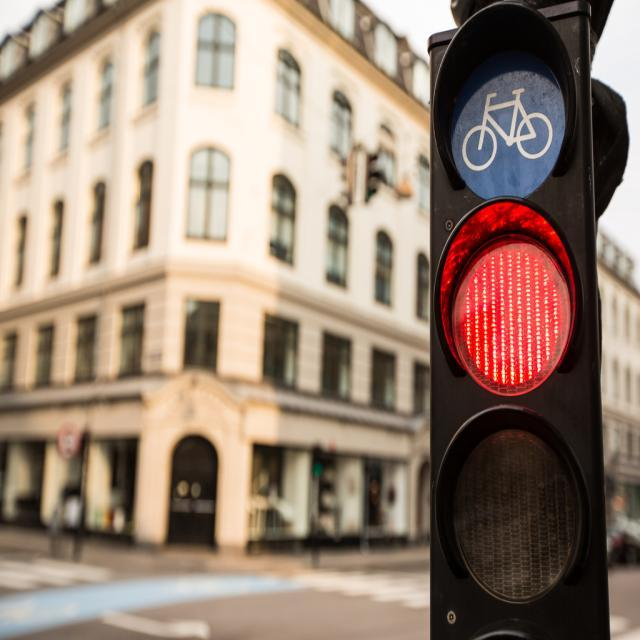traffic light: (424, 2, 619, 640)
